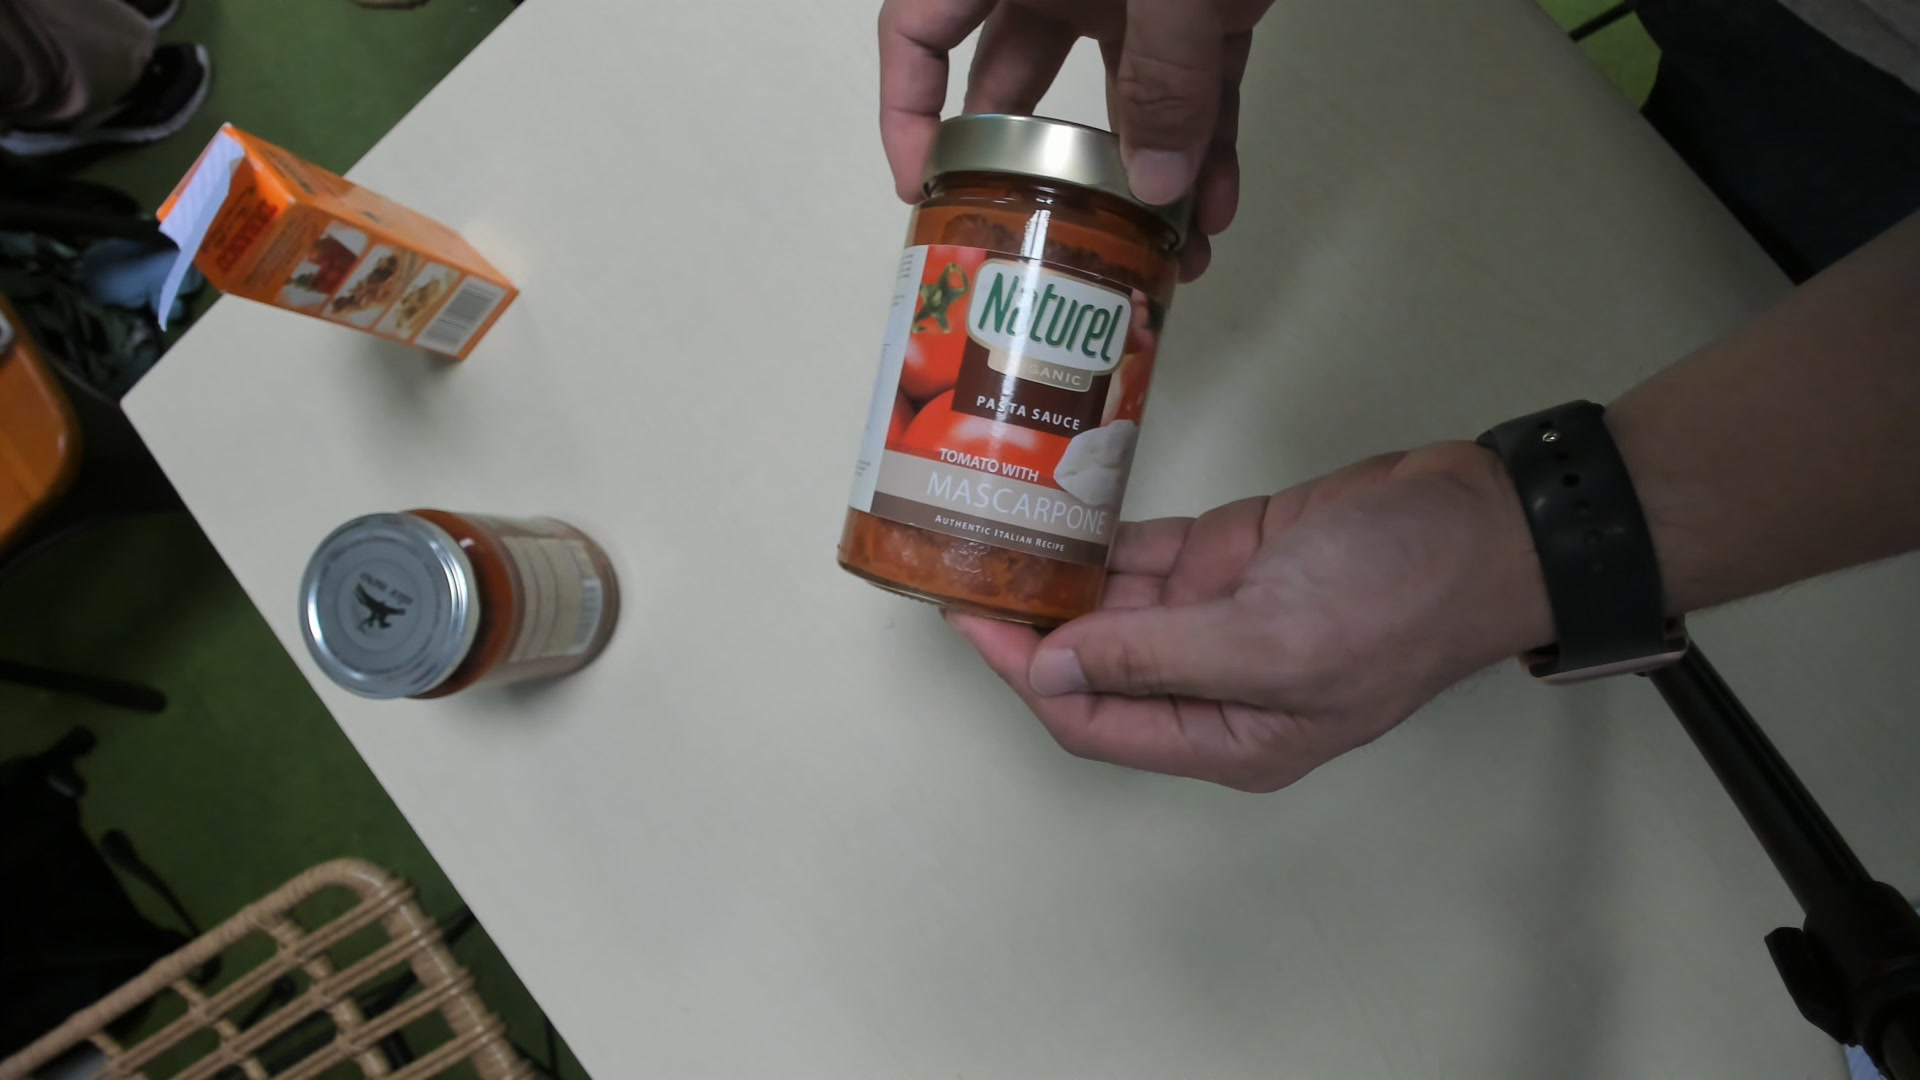PastaSauce_300-399g_NonHalal_NonHealthy: (836, 113, 1193, 625)
